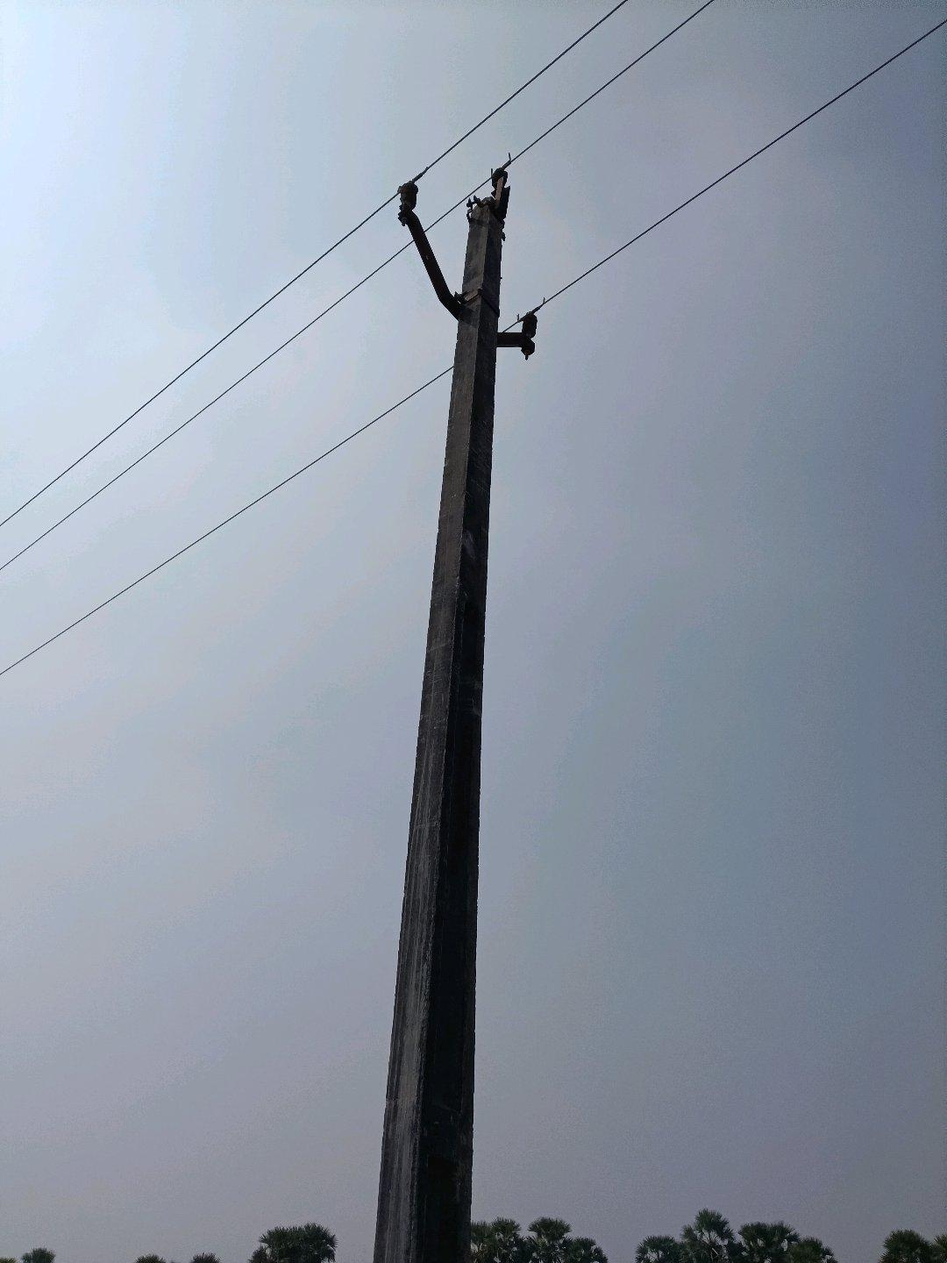{"0" "insulator", "1" "pole", "2" "crossarm", "3" "conductor", "4" "street_: (374, 168, 690, 1262), (289, 367, 451, 482), (525, 104, 579, 155), (507, 153, 520, 165), (806, 106, 816, 114), (712, 180, 716, 189), (753, 147, 759, 151), (726, 175, 728, 180), (278, 485, 280, 489), (515, 318, 516, 324), (822, 101, 824, 103)
